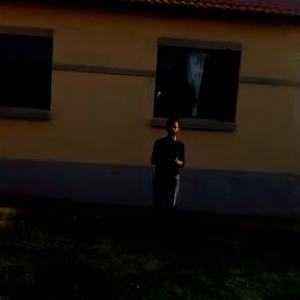follow: (143, 107, 185, 245)
null: (26, 258, 123, 299)
